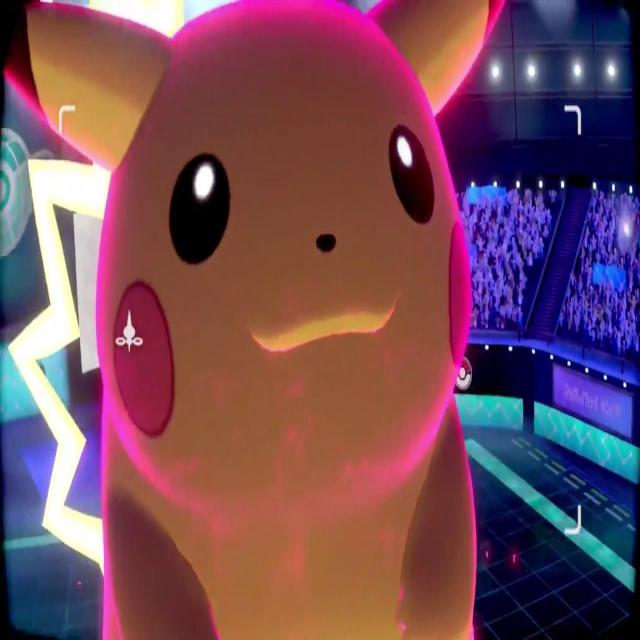pikachu: (2, 1, 506, 640)
